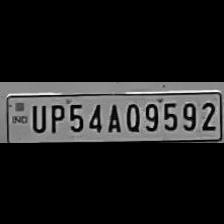2: (197, 97, 217, 130)
4: (85, 100, 103, 132)
5: (64, 100, 84, 132), (160, 98, 178, 130)
9: (178, 98, 198, 130), (141, 98, 159, 132)
A: (102, 100, 122, 132)
P: (46, 100, 64, 134)
Q: (122, 99, 142, 131)
U: (28, 102, 46, 132)
